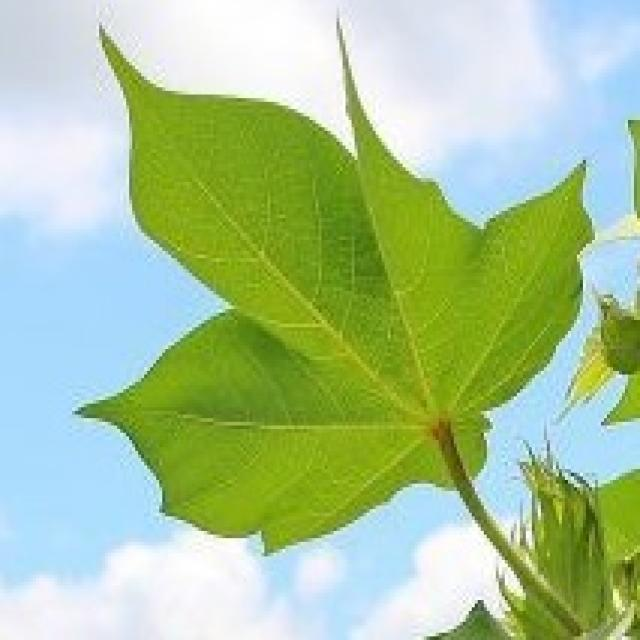Healthy Leaf: (63, 7, 640, 640)
